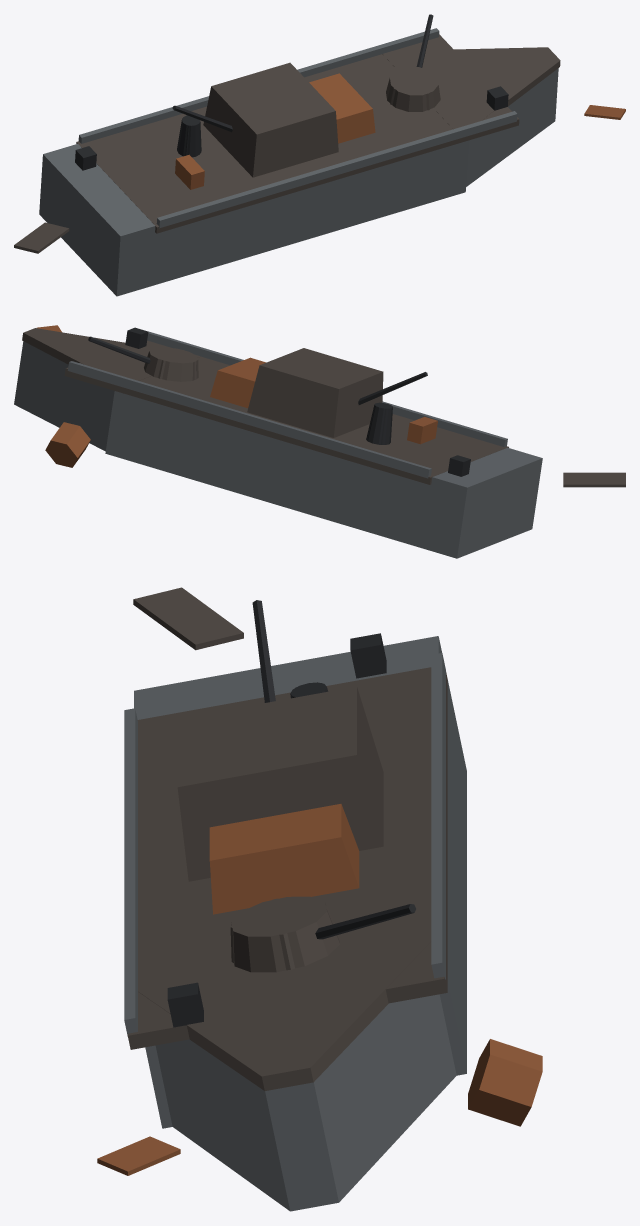
Rendered from neutral_wreck_vessel.glb.
3 views of the same model, one above another, from view 1: azimuth 30°, elevation 25°; view 2: azimuth 150°, elevation 25°; view 3: azimuth 270°, elevation 25° (orthographic). The views are drawn at different scales.
Parts seen in each view (by area): view 1: hull, turret (×2), debris; view 2: hull, debris, turret (×2), barrel; view 3: hull, debris, turret (×2), barrel.
Boxes of the visible parts, left/top/right/bottom form: hull: left=39, top=28, right=560, bottom=296; turret (×2): left=386, top=67, right=440, bottom=111; debris: left=14, top=105, right=625, bottom=253; hull: left=14, top=327, right=542, bottom=558; debris: left=37, top=325, right=625, bottom=487; turret (×2): left=144, top=347, right=198, bottom=381; barrel: left=88, top=336, right=150, bottom=363; hull: left=124, top=600, right=466, bottom=1211; debris: left=97, top=587, right=542, bottom=1175; turret (×2): left=230, top=896, right=340, bottom=972; barrel: left=315, top=904, right=415, bottom=939.
Size of the model in its own units: 22.26 by 5.45 by 7.17.
